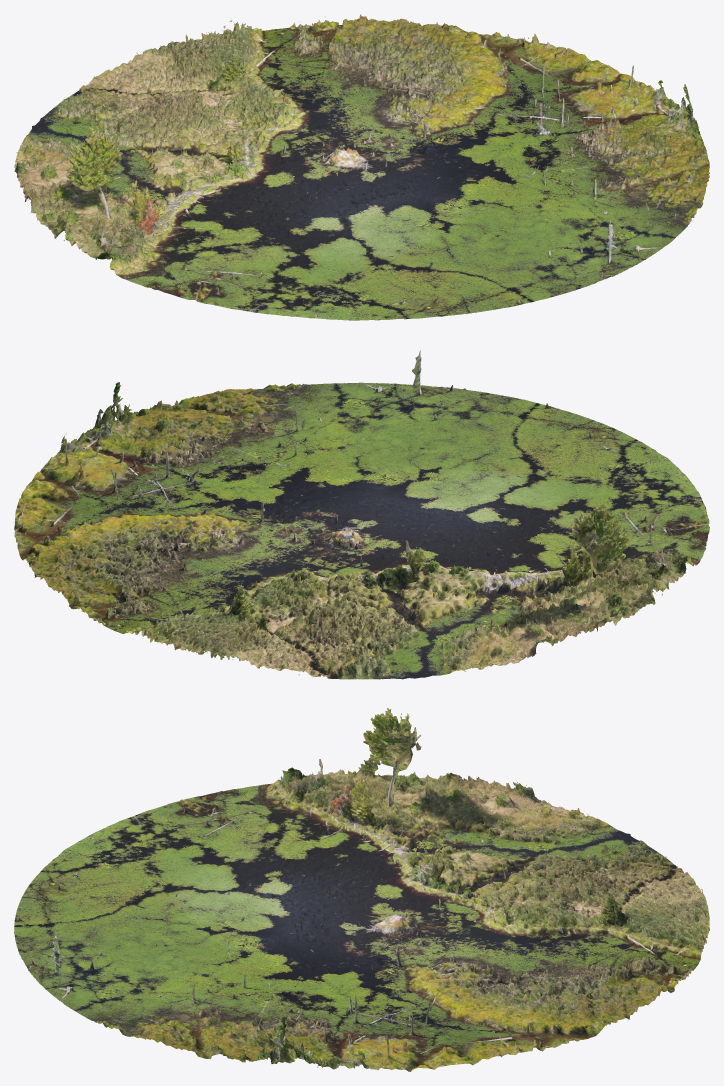
File: wetland.glb
The picture shows the model from 3 angles, top to bottom: view 1: azimuth 30°, elevation 25°; view 2: azimuth 150°, elevation 25°; view 3: azimuth 270°, elevation 25°; orthographic projection.
Visible parts, largest first — view 1: Object_2; view 2: Object_2; view 3: Object_2.
Boxes of the visible parts, x1,y1,x2,y2 form: Object_2: [14, 14, 709, 320]; Object_2: [14, 350, 709, 679]; Object_2: [14, 708, 709, 1071].
Size of the model in its own units: 77.85 by 13.72 by 78.01.
1 material, 1 textured.
